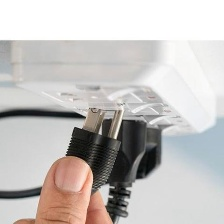three_eye_plug: (6, 30, 220, 141)
